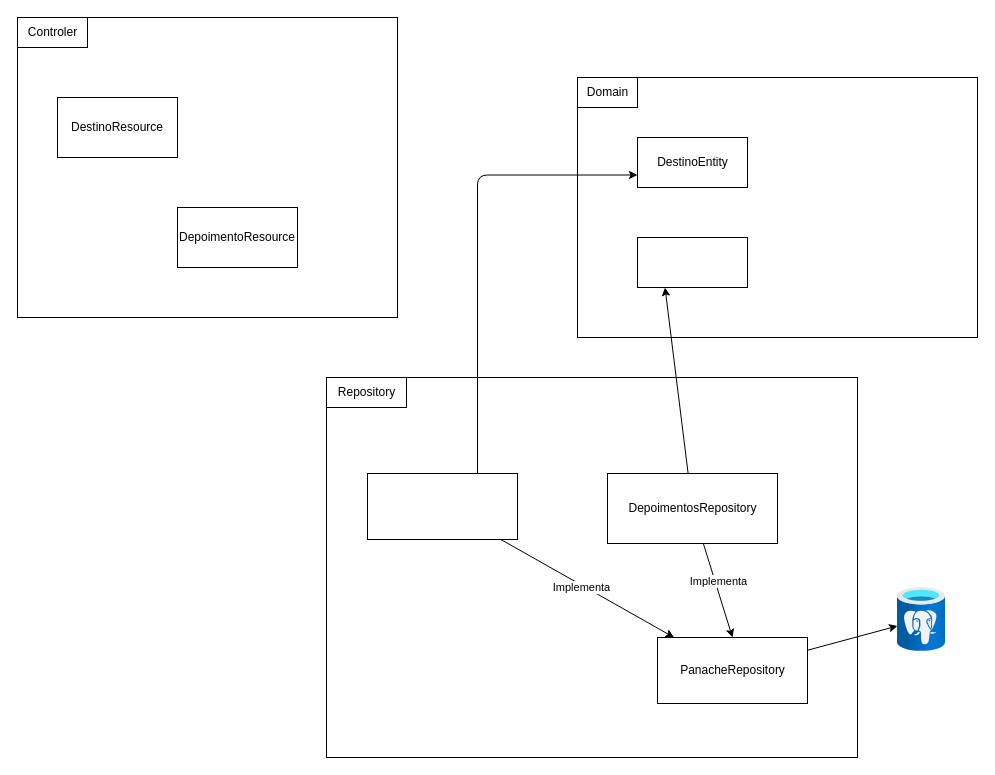
Image size: 995x775. Some labels were removed from this diagram. Here are the shapes that lost their labels. From the top down, the centre of each, then its label:
At pixel 692 262: "DepoimentoEntity".
At pixel 442 506: "DestinoRepository".
At pixel 921 619: "Banco de dados".
